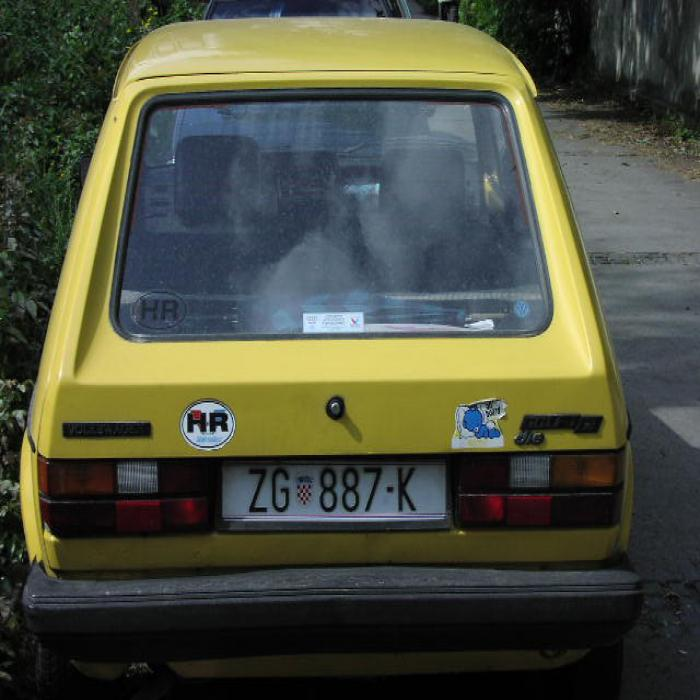number_plate: (223, 464, 444, 516)
